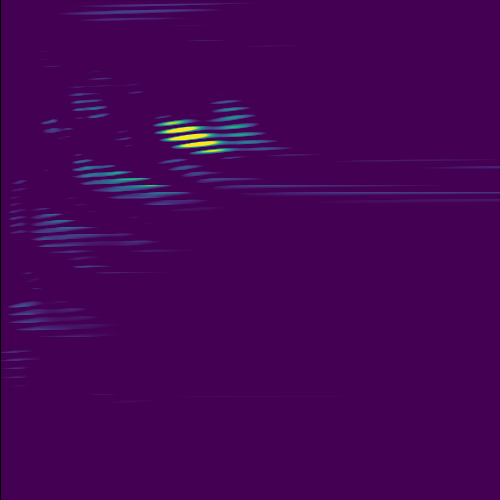semblance: (157, 111, 229, 161)
